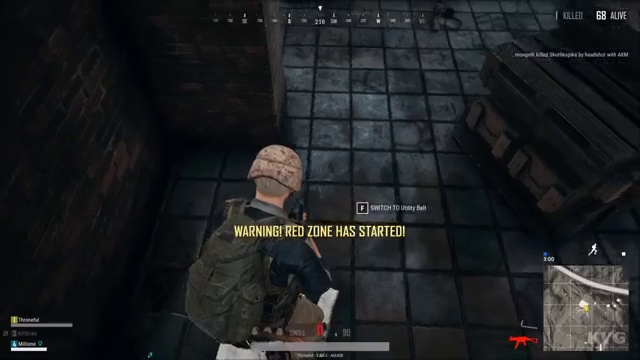Player: (166, 129, 380, 319)
